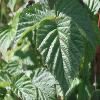Raspberry leaf: (33, 15, 85, 99), (12, 2, 52, 52)
